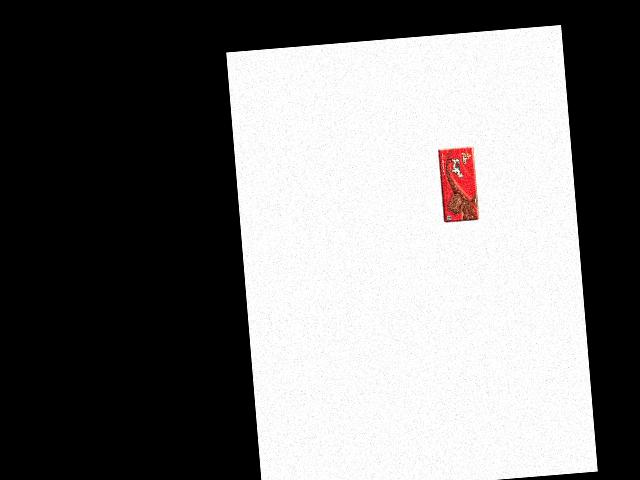chocolate: (444, 152, 486, 224)
